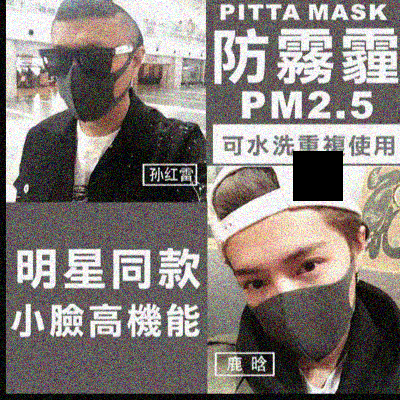with_mask: (229, 240, 355, 365), (50, 40, 119, 123)
